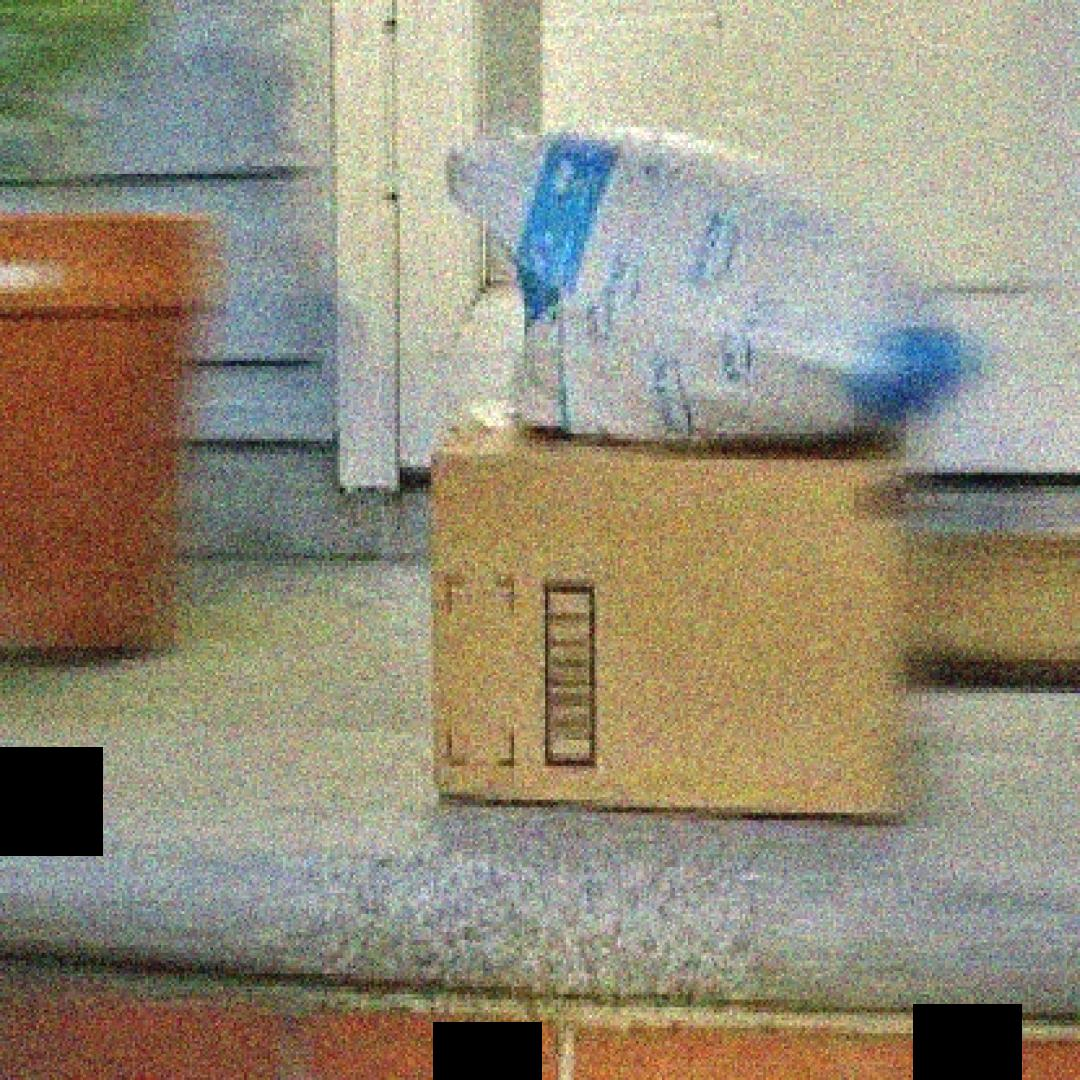package: (426, 387, 924, 831)
